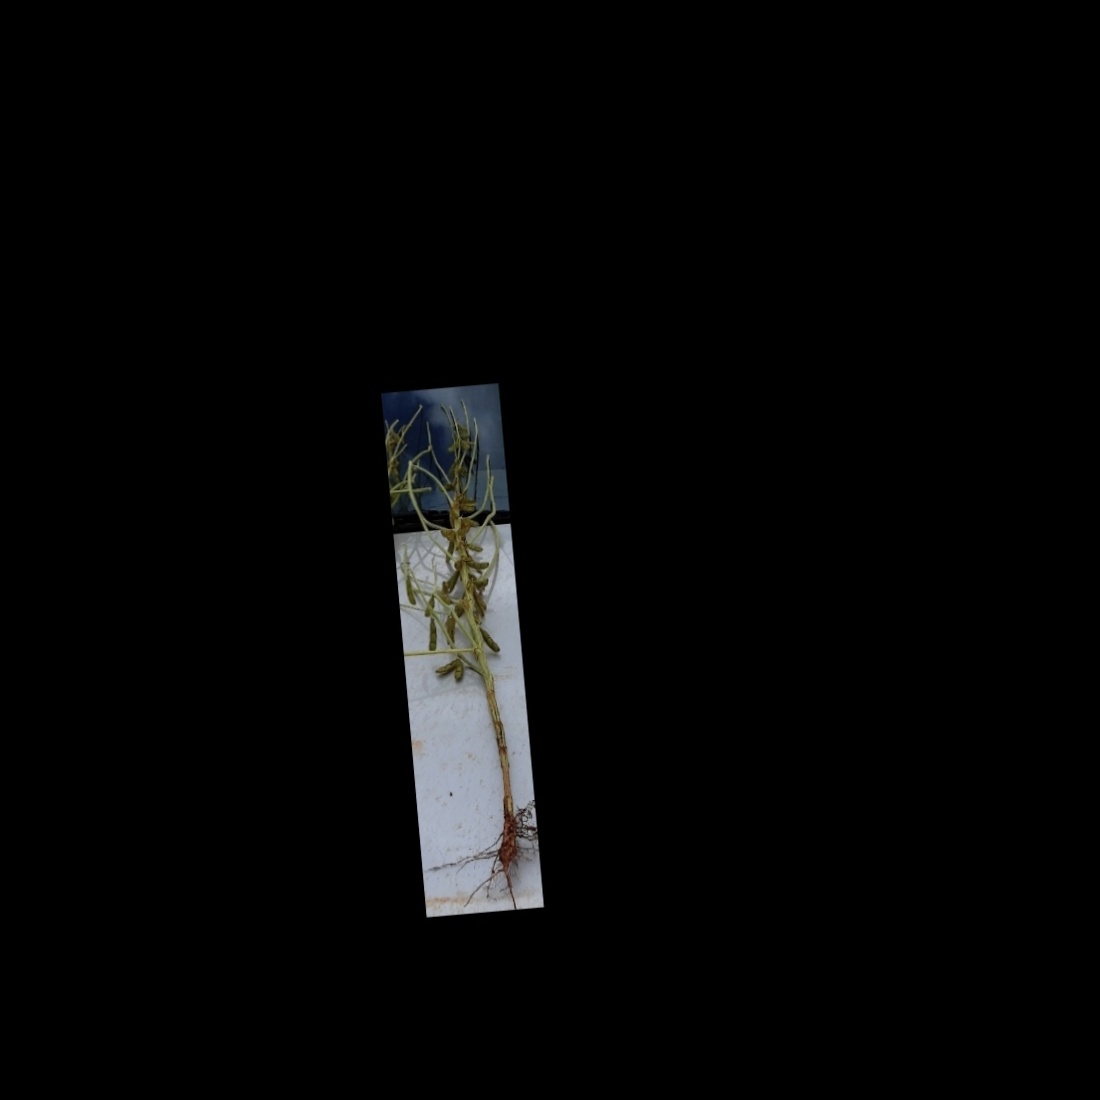pod: (422, 616, 441, 653), (479, 627, 501, 656), (401, 577, 417, 609), (452, 657, 466, 683), (465, 557, 492, 571)
soy: (387, 402, 537, 899)
